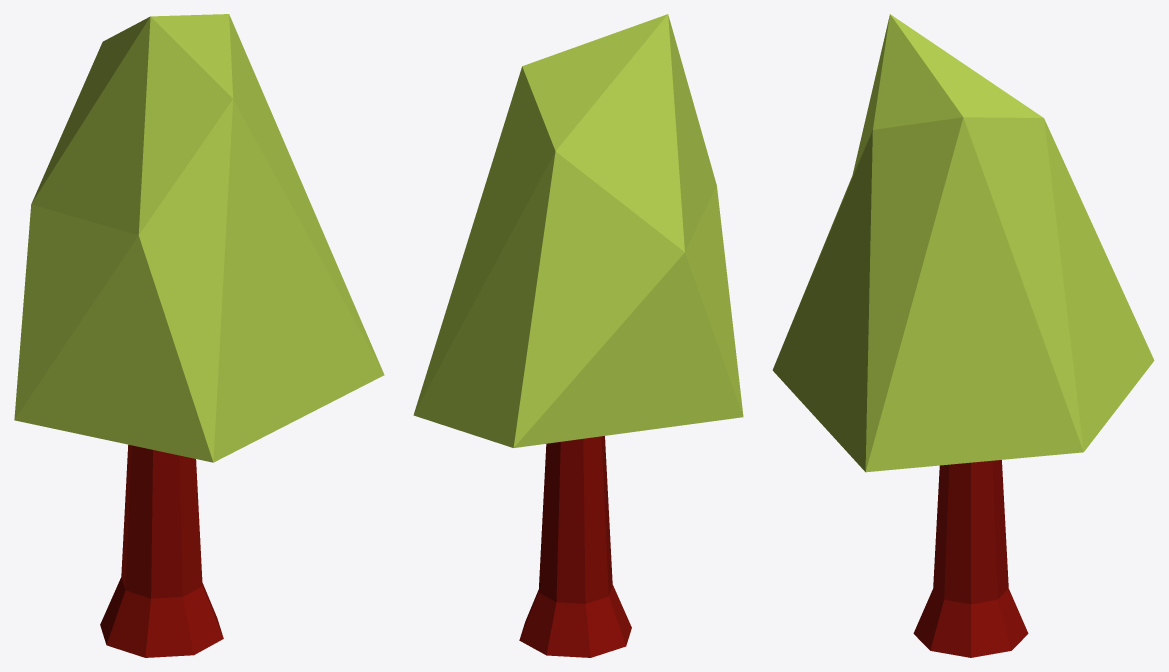
The model's file is tree7.fbx.
The picture shows the model from 3 angles, left to right: view 1: azimuth 30°, elevation 25°; view 2: azimuth 150°, elevation 25°; view 3: azimuth 270°, elevation 25°; orthographic projection. The views are drawn at different scales.
Parts seen in each view (by area): view 1: Cylinder.001, Cylinder; view 2: Cylinder.001, Cylinder; view 3: Cylinder.001, Cylinder.
Part boxes in pixels (x1,y1,x2,y2): Cylinder.001: [14, 14, 384, 462]; Cylinder: [100, 444, 223, 657]; Cylinder.001: [413, 14, 743, 447]; Cylinder: [519, 436, 631, 657]; Cylinder.001: [772, 14, 1154, 472]; Cylinder: [913, 460, 1028, 657].
Bounding box in the file's own units: 151 × 290 × 169.
